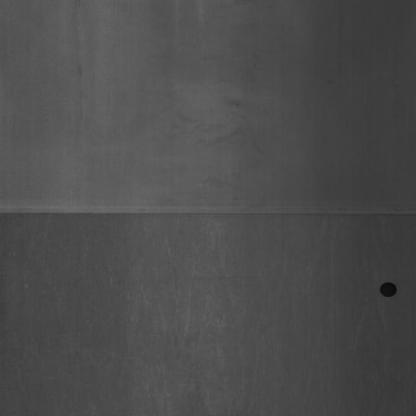punching_hole: (378, 277, 400, 303)
welding_line: (2, 195, 415, 227)
